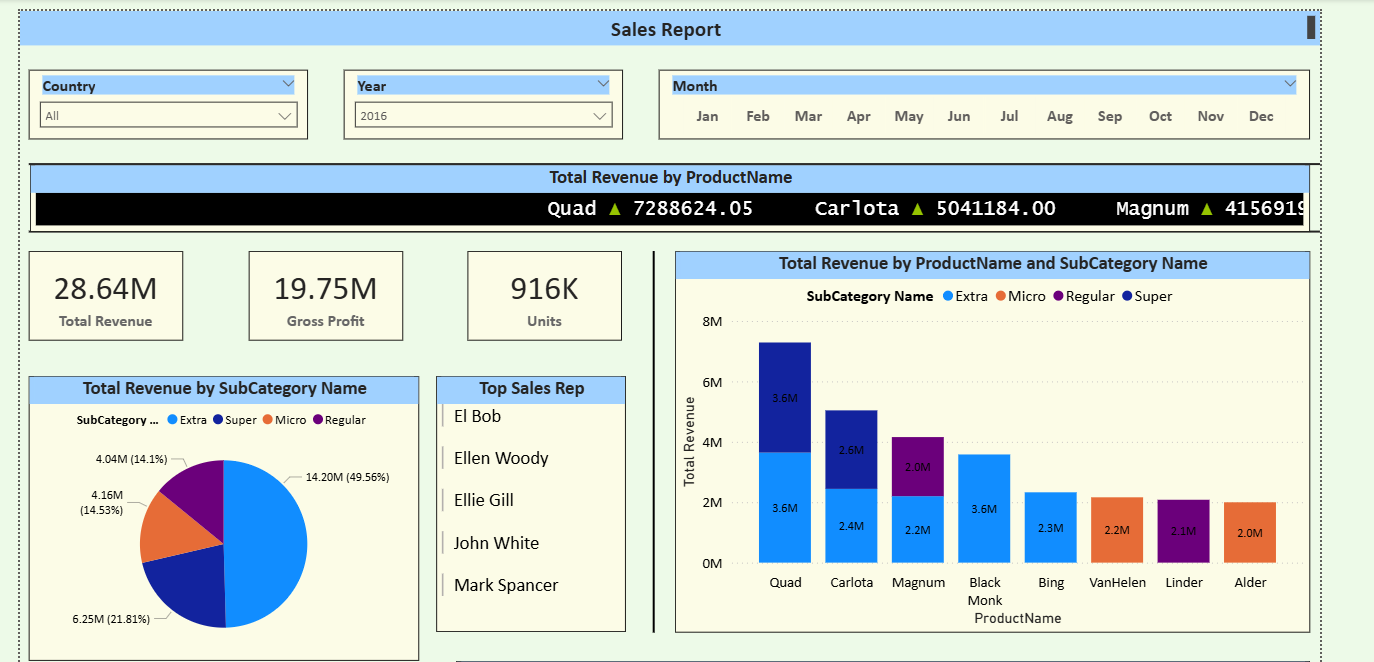

The page's visual inventory and layout, read from the dashboard file:
{"tool":"powerbi","page":{"name":"Page 1","canvas":[1300,1400],"ordinal":0},"visuals":[{"type":"textbox","box":[0,0,1300,34.3],"z":0},{"type":"slicer","fields":{"Values":["Geography.Country"]},"box":[8.7,58.6,279.5,69.9],"z":1000},{"type":"slicer","fields":{"Values":["DateMaster.Year"]},"box":[323.2,58.6,279.5,69.9],"z":2000},{"type":"slicer","fields":{"Values":["DateMaster.Month"]},"box":[638.9,58.6,651.4,69.9],"z":3000},{"type":"shape","box":[8.7,128.5,1291.5,48.7],"z":4000},{"type":"card","fields":{"Values":["Sum(Sales.Total Revenue)"]},"box":[8.7,239.6,154.7,89.8],"z":5000},{"type":"shape","box":[8.7,200.9,1291.5,38.7],"z":6000},{"type":"card","fields":{"Values":["Sum(Sales.Gross Profit)"]},"box":[228.4,239.6,154.7,89.8],"z":7000},{"type":"card","fields":{"Values":["Sum(Sales.Units)"]},"box":[448,239.6,154.7,89.8],"z":8000},{"type":"shape","box":[602.7,239.6,62.4,381.8],"z":9000},{"type":"pieChart","fields":{"Category":["SubCategory.SubCategory Name"],"Y":["Sum(Sales.Total Revenue)"]},"box":[8.7,365.6,390.6,284.5],"z":10000},{"type":"donutChart","fields":{"Y":["Sum(Sales.Total Revenue)"],"Category":["SubCategory.CategoryKey","dCategory.Category"]},"box":[10,688.8,389.3,303.2],"z":11000},{"type":"multiRowCard","title":"Top Sales Rep","fields":{"Values":["SalesRep.Jan Novotny"]},"box":[416.8,365.6,189.7,255.8],"z":12000},{"type":"ScrollingTextVisual1448795304508","fields":{"Category":["Product.ProductName"],"Measure Deviation":["Sum(Sales.Total Revenue)"]},"box":[10,153.5,1280.3,67.4],"z":13000},{"type":"waterfallChart","fields":{"Category":["DateMaster.Year"],"Breakdown":["Product.ProductName"],"Y":["Sum(Sales.Total Revenue)"]},"box":[436.7,650.1,853.5,341.9],"z":14000},{"type":"columnChart","fields":{"Category":["Product.ProductName"],"Y":["Sum(Sales.Total Revenue)"],"Series":["SubCategory.SubCategory Name"]},"box":[655.1,239.6,635.2,381.8],"z":15000},{"type":"shape","box":[10,1002,1280.3,53.7],"z":16000},{"type":"lineChart","fields":{"Category":["DateMaster.Quarter"],"Y":["Sum(Sales.Total Revenue)"]},"box":[10,1055.7,606.5,324.4],"z":17000},{"type":"lineChart","fields":{"Category":["DateMaster.Month"],"Y":["Sum(Sales.Gross Profit)"]},"box":[655.1,1056.9,635.2,323.2],"z":18000}]}

Visuals, with their boxes on the page's 1300x1400 design canvas (x1, y1, x2, y2). These are canvas units, not pixel positions in the 1374x662 screenshot, which may show the page scaled, cropped or inside an application window:
textbox: detection(0, 0, 1300, 34)
slicer - Geography.Country: detection(9, 59, 288, 128)
slicer - DateMaster.Year: detection(323, 59, 603, 128)
slicer - DateMaster.Month: detection(639, 59, 1290, 128)
shape: detection(9, 128, 1300, 177)
card - Sum(Sales.Total Revenue): detection(9, 240, 163, 329)
shape: detection(9, 201, 1300, 240)
card - Sum(Sales.Gross Profit): detection(228, 240, 383, 329)
card - Sum(Sales.Units): detection(448, 240, 603, 329)
shape: detection(603, 240, 665, 621)
pieChart - SubCategory.SubCategory Name x Sum(Sales.Total Revenue): detection(9, 366, 399, 650)
donutChart - Sum(Sales.Total Revenue) x SubCategory.CategoryKey: detection(10, 689, 399, 992)
"Top Sales Rep" multiRowCard: detection(417, 366, 606, 621)
ScrollingTextVisual1448795304508 - Product.ProductName x Sum(Sales.Total Revenue): detection(10, 154, 1290, 221)
waterfallChart - DateMaster.Year x Product.ProductName: detection(437, 650, 1290, 992)
columnChart - Product.ProductName x Sum(Sales.Total Revenue): detection(655, 240, 1290, 621)
shape: detection(10, 1002, 1290, 1056)
lineChart - DateMaster.Quarter x Sum(Sales.Total Revenue): detection(10, 1056, 616, 1380)
lineChart - DateMaster.Month x Sum(Sales.Gross Profit): detection(655, 1057, 1290, 1380)
